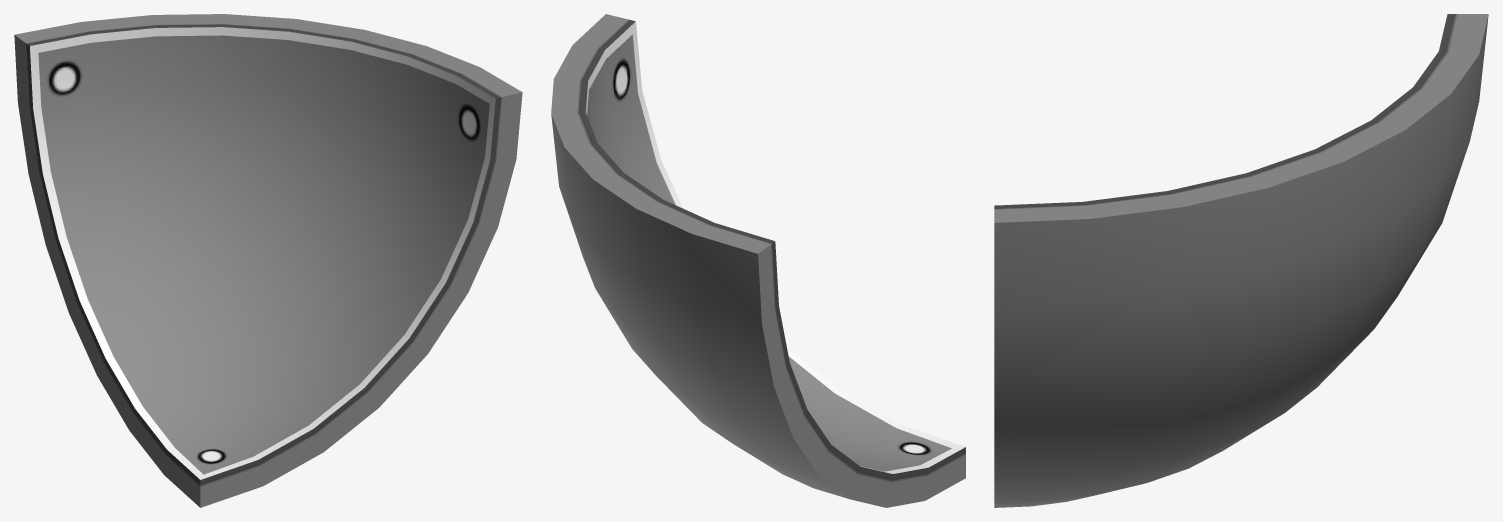
The model's file is space_quarter_corner.gltf.
3 views of the same model, side by side, from view 1: azimuth 30°, elevation 25°; view 2: azimuth 150°, elevation 25°; view 3: azimuth 270°, elevation 25° (orthographic). The views are drawn at different scales.
Parts seen in each view (by area): view 1: space_quarter_corner_glb; view 2: space_quarter_corner_glb; view 3: space_quarter_corner_glb.
Boxes of the visible parts, box(x1,y1,x2,y2) form: space_quarter_corner_glb: box(14, 14, 522, 507); space_quarter_corner_glb: box(551, 14, 965, 507); space_quarter_corner_glb: box(994, 14, 1488, 507).
Size of what is drawn, in the model's own units: 3 by 3 by 3.
Materials: 1 (1 with a texture image).
